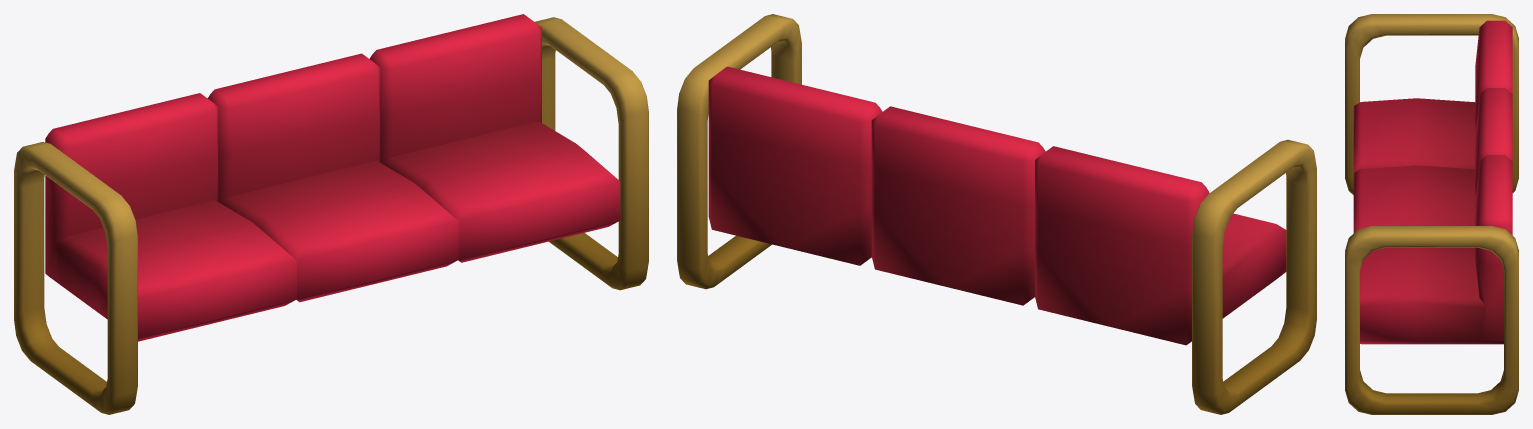
Rendered from big-chair.fbx.
The picture shows the model from 3 angles, left to right: view 1: azimuth 30°, elevation 25°; view 2: azimuth 150°, elevation 25°; view 3: azimuth 270°, elevation 25°; orthographic projection. The views are drawn at different scales.
Visible parts, largest first — view 1: big-chair; view 2: big-chair; view 3: big-chair.
Part boxes in pixels (bbox=[...]): big-chair: bbox=[14, 14, 648, 414]; big-chair: bbox=[677, 14, 1316, 414]; big-chair: bbox=[1345, 14, 1518, 414].
Size of the model in its own units: 286 by 94.47 by 112.
